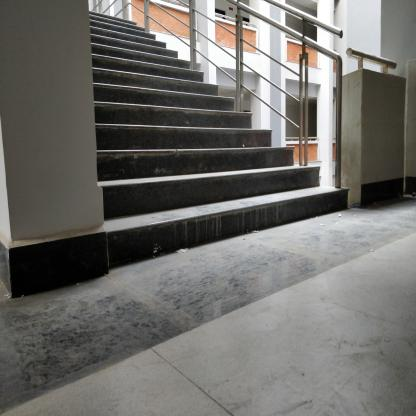stairs: (110, 111, 254, 255)
